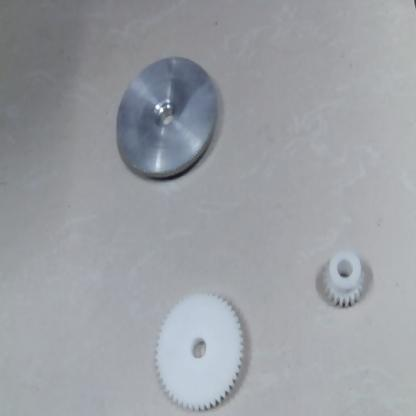FOD: (110, 46, 224, 188), (150, 290, 258, 414), (317, 245, 375, 310)
